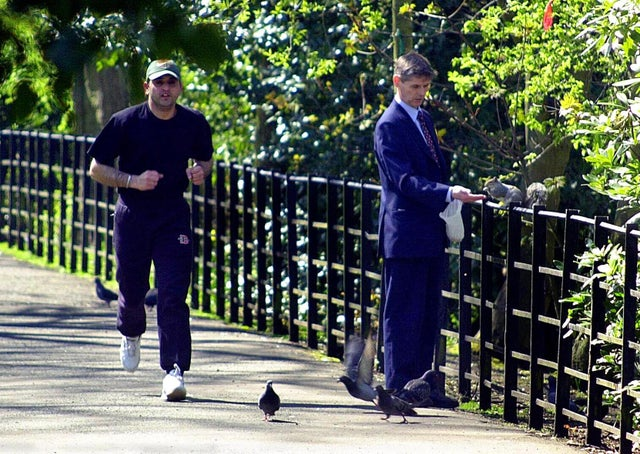Good: (84, 48, 488, 358)
